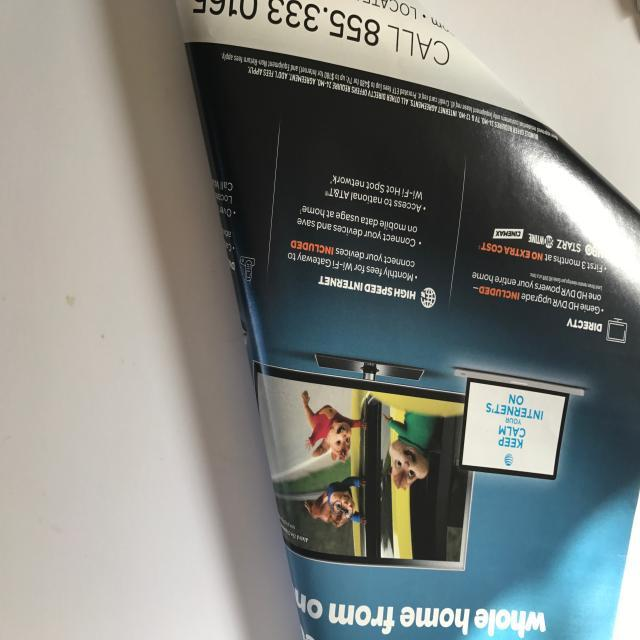paper: (173, 1, 640, 640)
